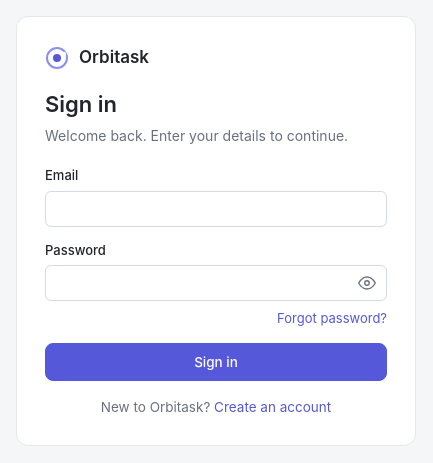
Test: Sign in password toggle › toggles visibility, updates its accessible name, and does not submit the form
The image size is (433, 463).
Type "Secret123" into the password field labelled "Password".
click(216, 283); type("Secret123")  # box [45, 265, 387, 301]
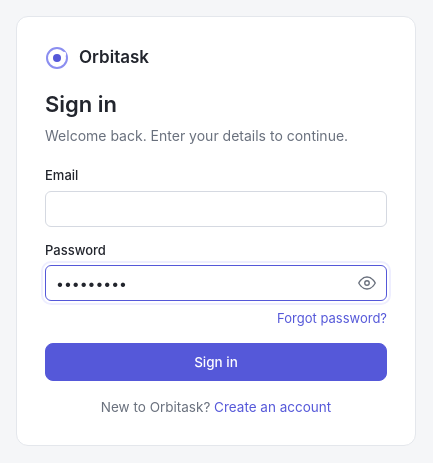
Click the button named "Show password".
click(367, 283)  # box [349, 267, 385, 299]
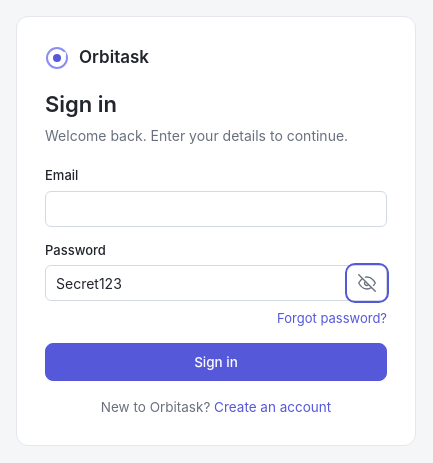
Expected: the field labelled "Password" shows its text, [45, 265, 387, 301]
Click the button named "Hide password".
click(367, 283)  # box [349, 267, 385, 299]
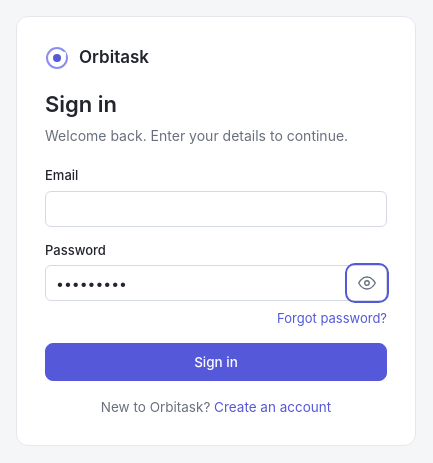
Expected: the password field labelled "Password" hides its text, [45, 265, 387, 301]
